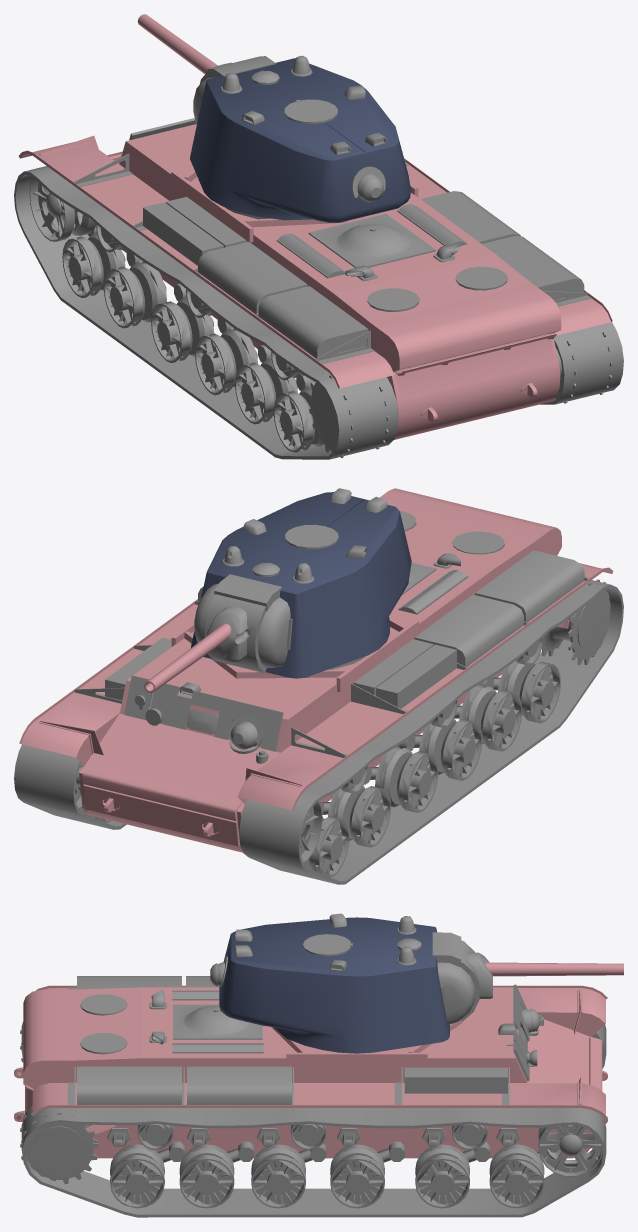
File: enityTank.FBX
3 renders of one model, top to bottom at view 1: azimuth 30°, elevation 25°; view 2: azimuth 150°, elevation 25°; view 3: azimuth 270°, elevation 25°, orthographic. The views are drawn at different scales.
Visible parts, largest first — view 1: Box25, Group09, Line04, Box157, Box166, Line31, Box174, Sphere01, Box04, katok15, katok17, Box172 (+15 smaller); view 2: Box25, Group09, Box157, Line04, Box174, Line08, Box166, Line31, Box04, katok16, katok18, katok17 (+14 smaller); view 3: Box157, Group09, Line31, Box25, Box172, Box173, Cylinder89, katok27, katok23, katok25, katok26, katok24 (+17 smaller).
Part boxes in pixels (x1,y1,x2,y2): Box25: [19, 124, 480, 439]; Group09: [190, 56, 410, 222]; Line04: [14, 166, 398, 459]; Box157: [344, 158, 612, 420]; Box166: [258, 286, 368, 358]; Line31: [540, 322, 623, 404]; Box174: [198, 242, 307, 313]; Sphere01: [308, 213, 435, 267]; Box04: [143, 196, 246, 265]; katok15: [103, 261, 166, 328]; katok17: [195, 328, 257, 395]; Box172: [482, 236, 584, 300]; Box25: [158, 508, 613, 852]; Group09: [191, 492, 411, 749]; Box157: [19, 488, 475, 833]; Line04: [239, 580, 623, 884]; Box174: [414, 594, 523, 667]; Line08: [124, 675, 283, 751]; Box166: [475, 550, 584, 622]; Line31: [14, 744, 126, 829]; Box04: [353, 639, 456, 708]; katok16: [375, 746, 438, 812]; katok18: [459, 684, 522, 751]; katok17: [419, 718, 482, 780]; Box157: [14, 1020, 607, 1158]; Group09: [210, 917, 539, 1053]; Line31: [21, 1105, 606, 1217]; Box25: [14, 985, 607, 1087]; Box172: [77, 1066, 181, 1104]; Box173: [187, 1066, 291, 1104]; Cylinder89: [20, 1107, 98, 1184]; katok27: [179, 1144, 234, 1208]; katok23: [489, 1144, 544, 1208]; katok25: [330, 1144, 384, 1208]; katok26: [251, 1144, 305, 1208]; katok24: [415, 1144, 469, 1208].
Bounding box in the file's own units: 20.85 × 17.33 × 43.07.
